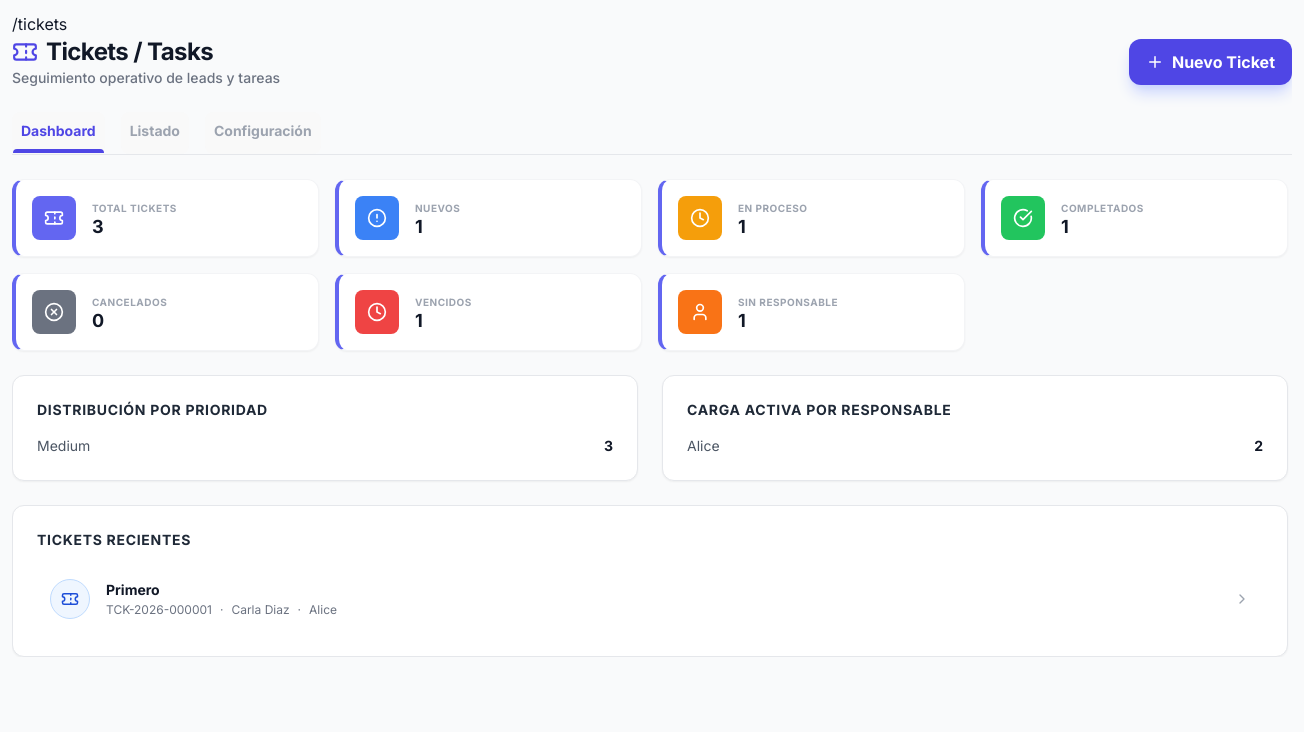
Scenario: Tickets — list › shows forbidden, error and empty states distinctly for the list
This screenshot has width=1304, height=732.
Click the button "Listado": (155, 133) [121,112,189,154]
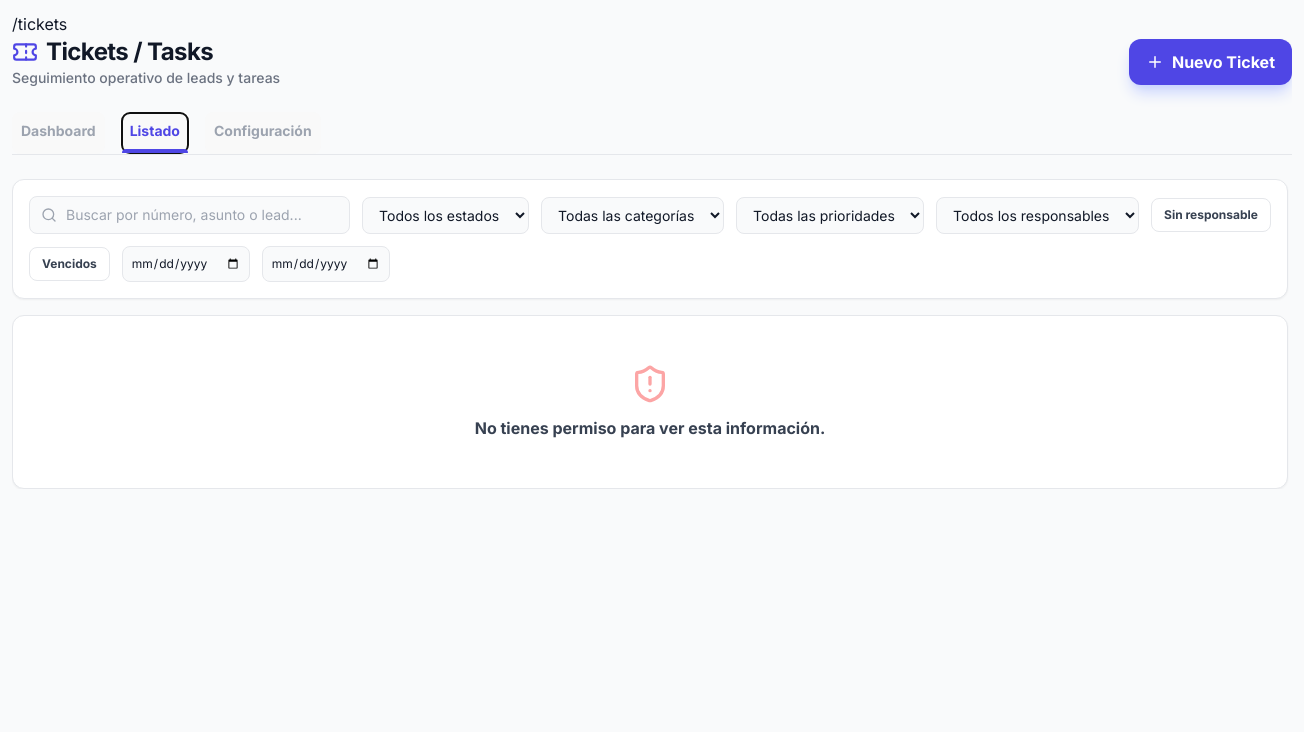
Expected: the text "No tienes permiso para ver esta información." is shown, [475,416,825,440]
